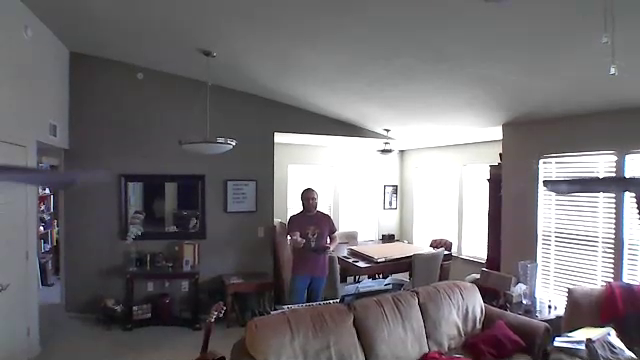land: (287, 235, 309, 251)
